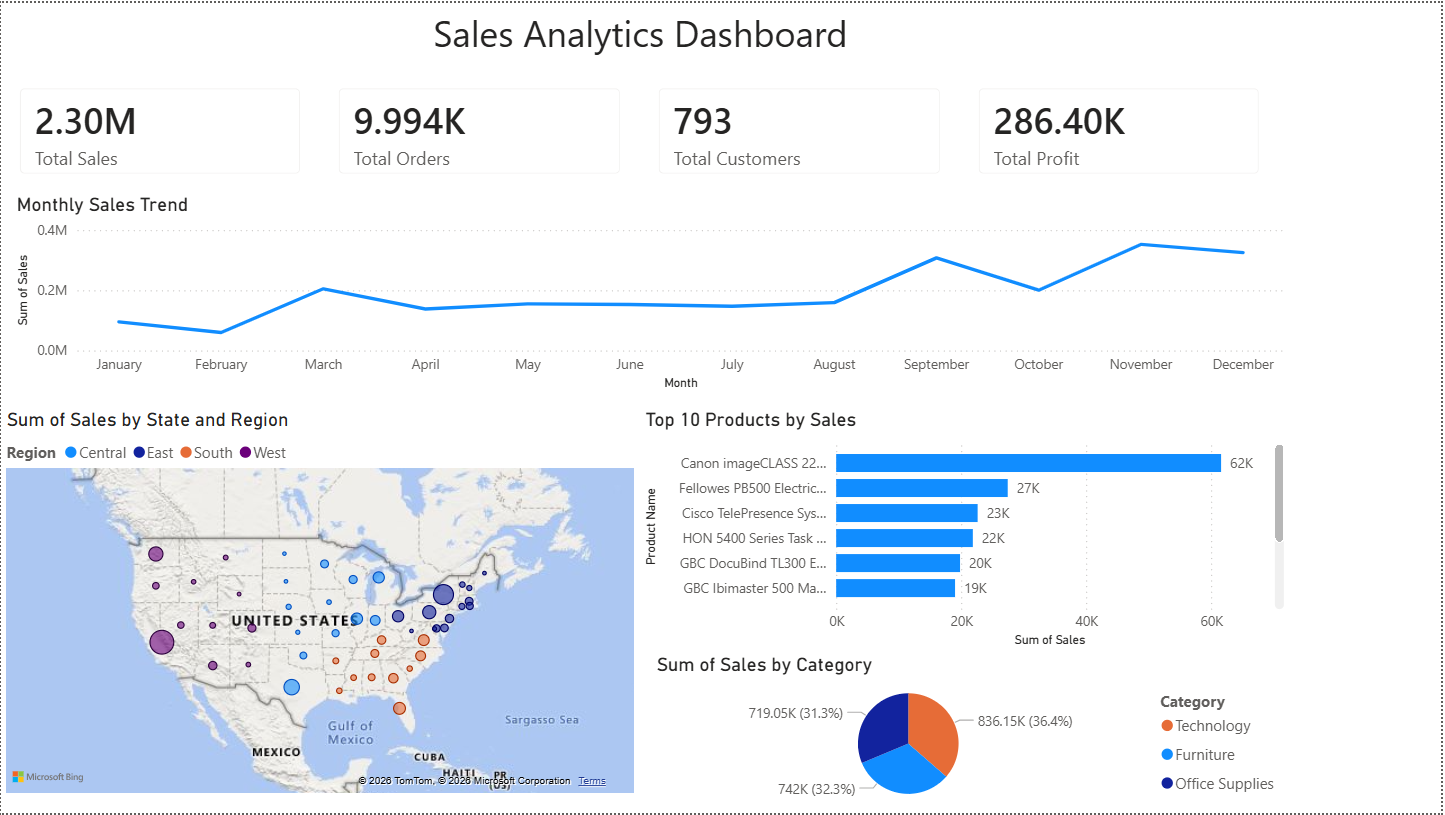

This screenshot's page, from the dashboard's own definition file:
{"tool":"powerbi","page":{"name":"Page 1","canvas":[1280,720],"ordinal":0},"visuals":[{"type":"cardVisual","fields":{"Data":["Sum(clean_sales_data.Sales)"]},"box":[0,58.9,283.3,110],"z":0},{"type":"cardVisual","fields":{"Data":["CountNonNull(clean_sales_data.Order ID)"]},"box":[283.3,58.9,284.4,110],"z":1000},{"type":"cardVisual","fields":{"Data":["Count(clean_sales_data.Customer ID)"]},"box":[567.8,58.9,284.4,110],"z":2000},{"type":"cardVisual","fields":{"Data":["Sum(clean_sales_data.Profit)"]},"box":[852.2,58.9,283.3,110],"z":3000},{"type":"lineChart","title":"Monthly Sales Trend","fields":{"Category":["clean_sales_data.Order Date.Variation.Date Hierarchy.Month"],"Y":["Sum(clean_sales_data.Sales)"]},"box":[8.9,168.9,1136.7,180],"z":4000},{"type":"map","fields":{"Category":["clean_sales_data.State"],"Series":["clean_sales_data.Region"],"Size":["Sum(clean_sales_data.Sales)"]},"box":[0,360,567.8,347.8],"z":5000},{"type":"clusteredBarChart","title":"Top 10 Products by Sales","fields":{"Category":["clean_sales_data.Product Name"],"Y":["Sum(clean_sales_data.Sales)"]},"box":[567.8,360,577.8,217.8],"z":6000},{"type":"pieChart","fields":{"Category":["clean_sales_data.Category"],"Y":["Sum(clean_sales_data.Sales)"]},"box":[577.8,577.8,567.8,142.2],"z":7000},{"type":"textbox","box":[352.2,0,432.2,54.4],"z":7001}]}

Visuals, with their boxes in screenshot pixels (x1, y1, x2, y2), scaled from the page's 1280x720 canvas onto the 1445x815 screenshot:
cardVisual - Sum(clean_sales_data.Sales): 0,67,320,191
cardVisual - CountNonNull(clean_sales_data.Order ID): 320,67,641,191
cardVisual - Count(clean_sales_data.Customer ID): 641,67,962,191
cardVisual - Sum(clean_sales_data.Profit): 962,67,1282,191
"Monthly Sales Trend" lineChart: 10,191,1293,395
map - clean_sales_data.State x clean_sales_data.Region: 0,408,641,801
"Top 10 Products by Sales" clusteredBarChart: 641,408,1293,654
pieChart - clean_sales_data.Category x Sum(clean_sales_data.Sales): 652,654,1293,814
textbox: 398,0,886,62
